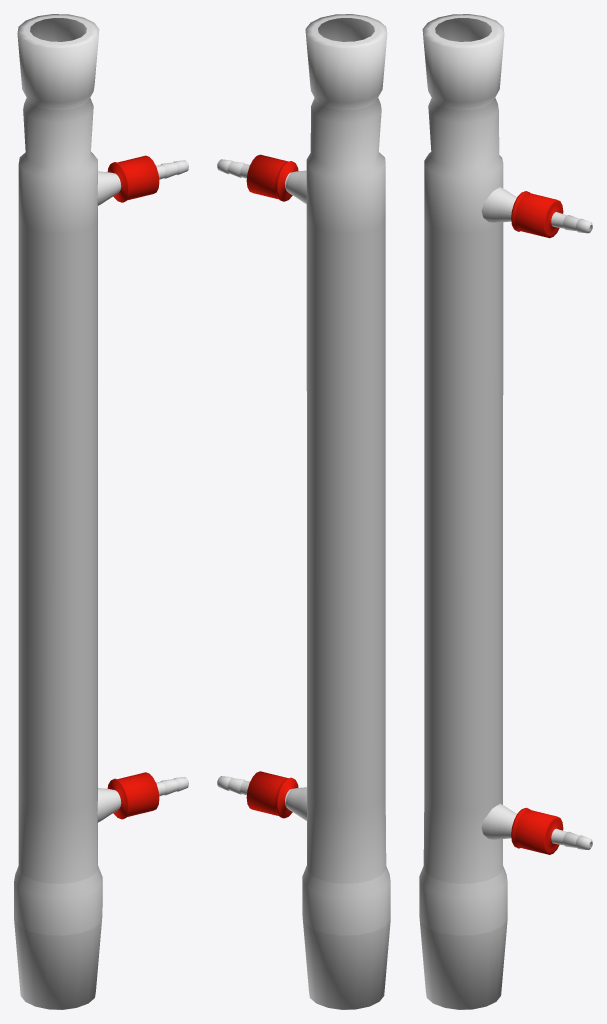
Rendered from Condenser_JUST.fbx.
The picture shows the model from 3 angles, left to right: view 1: azimuth 30°, elevation 25°; view 2: azimuth 150°, elevation 25°; view 3: azimuth 330°, elevation 25°; orthographic projection.
Visible parts, largest first — view 1: Condenser; view 2: Condenser; view 3: Condenser.
Part boxes in pixels (left/top/right/bottom): Condenser: left=14, top=14, right=188, bottom=1009; Condenser: left=217, top=14, right=390, bottom=1009; Condenser: left=419, top=14, right=592, bottom=1009.
Size of the model in its own units: 4.75 by 26.3 by 2.2.
